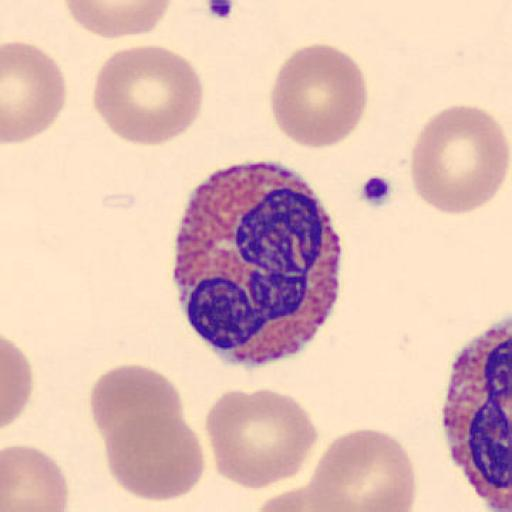RBC: (90, 364, 200, 502), (203, 386, 320, 492), (92, 43, 206, 147), (410, 104, 510, 216), (269, 42, 368, 150), (102, 411, 206, 503), (307, 426, 418, 512), (90, 362, 186, 458), (2, 40, 68, 146), (1, 443, 70, 512), (251, 474, 368, 512), (62, 0, 173, 39), (1, 334, 33, 432), (251, 484, 355, 512), (252, 484, 323, 512)
WBC: (167, 159, 345, 369), (436, 309, 512, 512)
